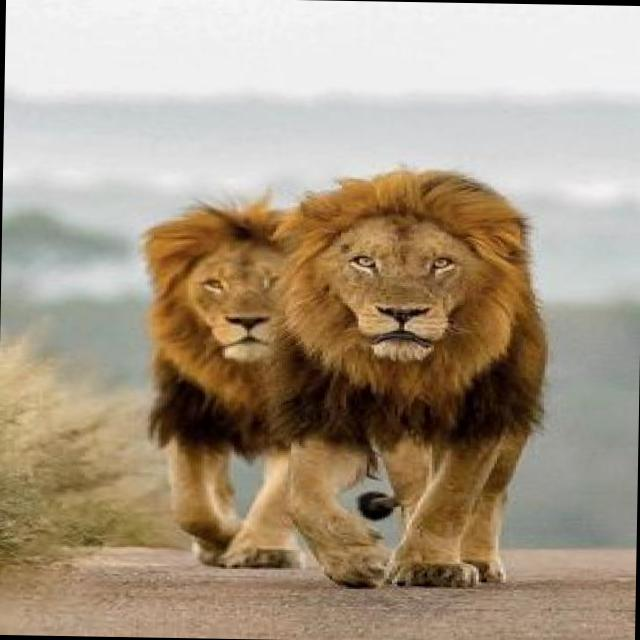lions: (94, 122, 625, 640)
